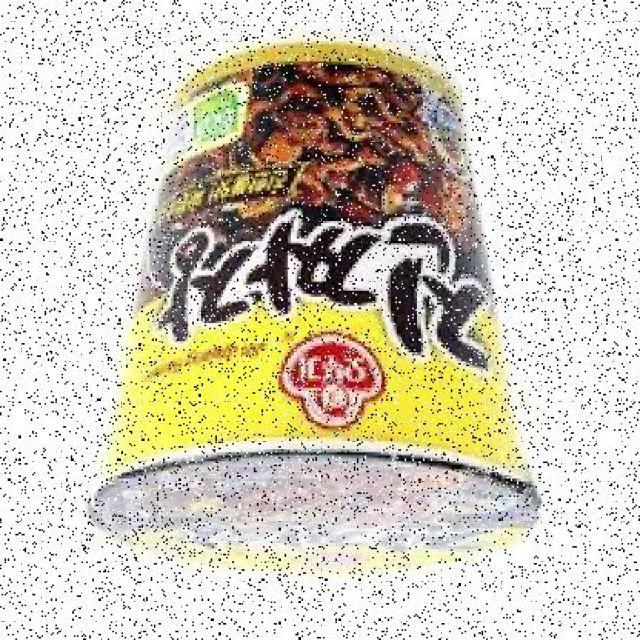Miscellaneous: (72, 38, 543, 577)
